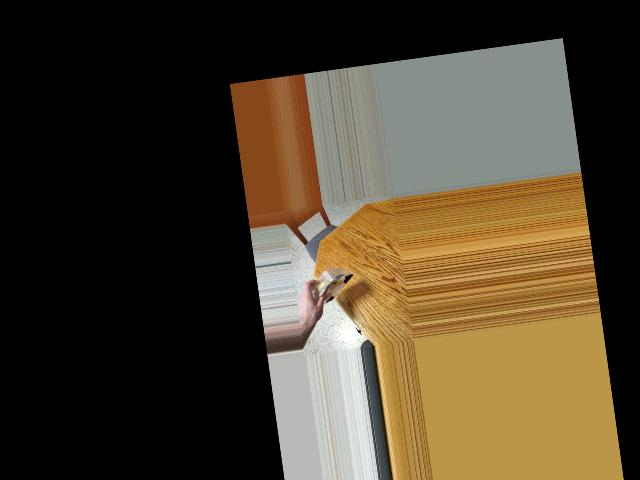cheese: (305, 256, 352, 311)
